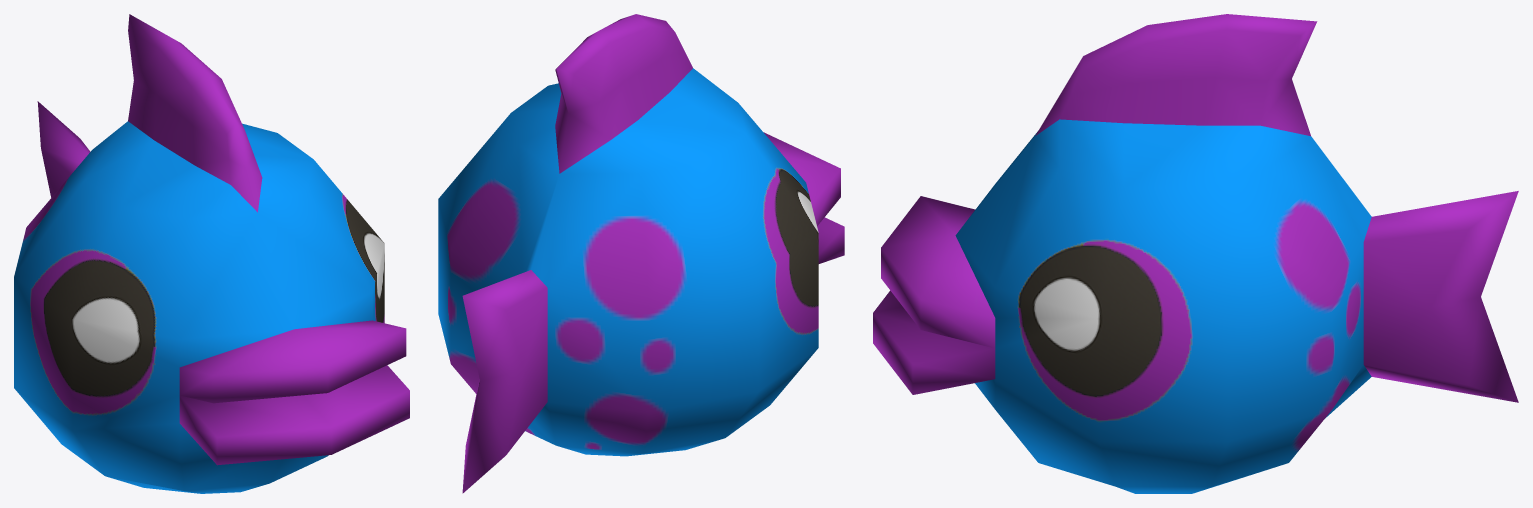
File: Fish.FBX
3 views of the same model, side by side, from view 1: azimuth 30°, elevation 25°; view 2: azimuth 150°, elevation 25°; view 3: azimuth 270°, elevation 25° (orthographic). The views are drawn at different scales.
Parts seen in each view (by area): view 1: Fish; view 2: Fish; view 3: Fish.
Part boxes in pixels (box(x1,y1,x2,y2)): Fish: box(14, 14, 409, 493); Fish: box(438, 14, 844, 493); Fish: box(873, 14, 1518, 493).
Size of the model in its own units: 1.01 by 1.25 by 1.65.
